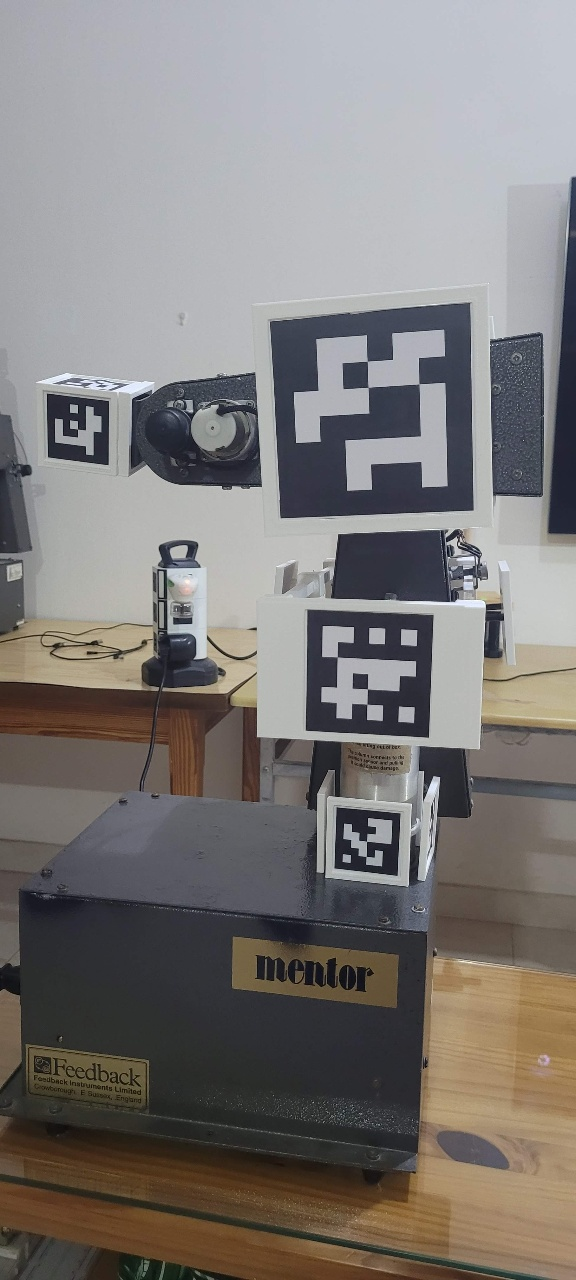Robot: (28, 180, 499, 893)
